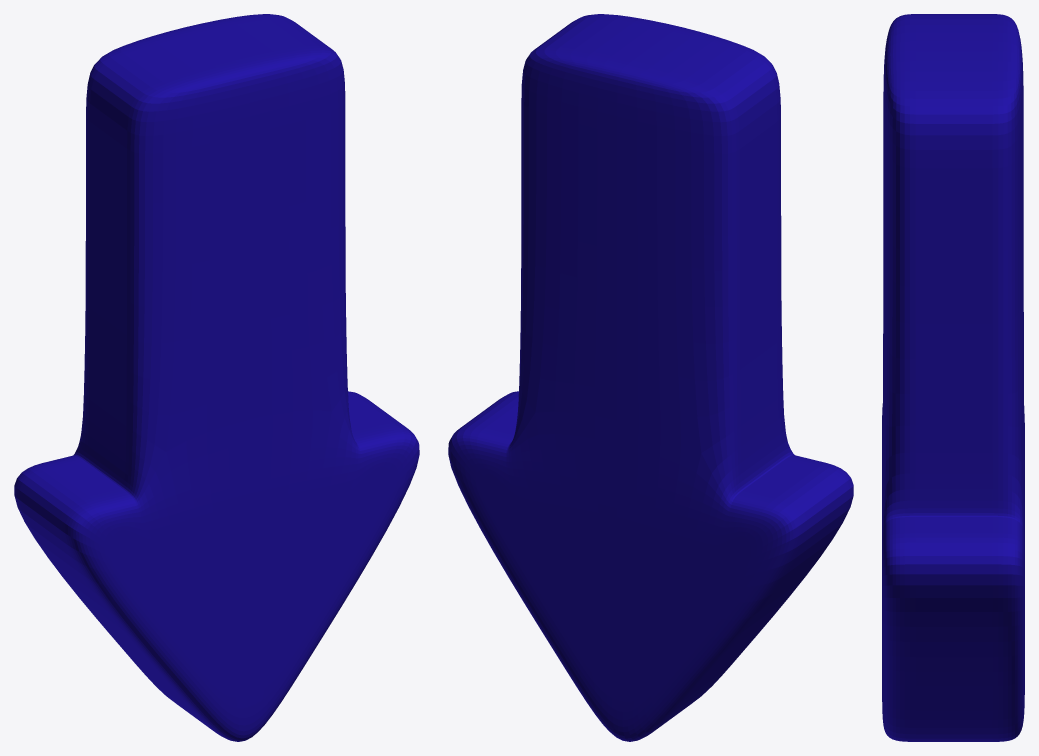
File: forward.obj
The picture shows the model from 3 angles, left to right: view 1: azimuth 30°, elevation 25°; view 2: azimuth 150°, elevation 25°; view 3: azimuth 270°, elevation 25°; orthographic projection. The views are drawn at different scales.
Parts seen in each view (by area): view 1: Plane; view 2: Plane; view 3: Plane.
Part boxes in pixels (<box>): Plane: <box>14,14,419,741</box>; Plane: <box>448,14,853,741</box>; Plane: <box>882,14,1024,741</box>.
Bounding box in the file's own units: 1.37 × 2.51 × 0.4705.
